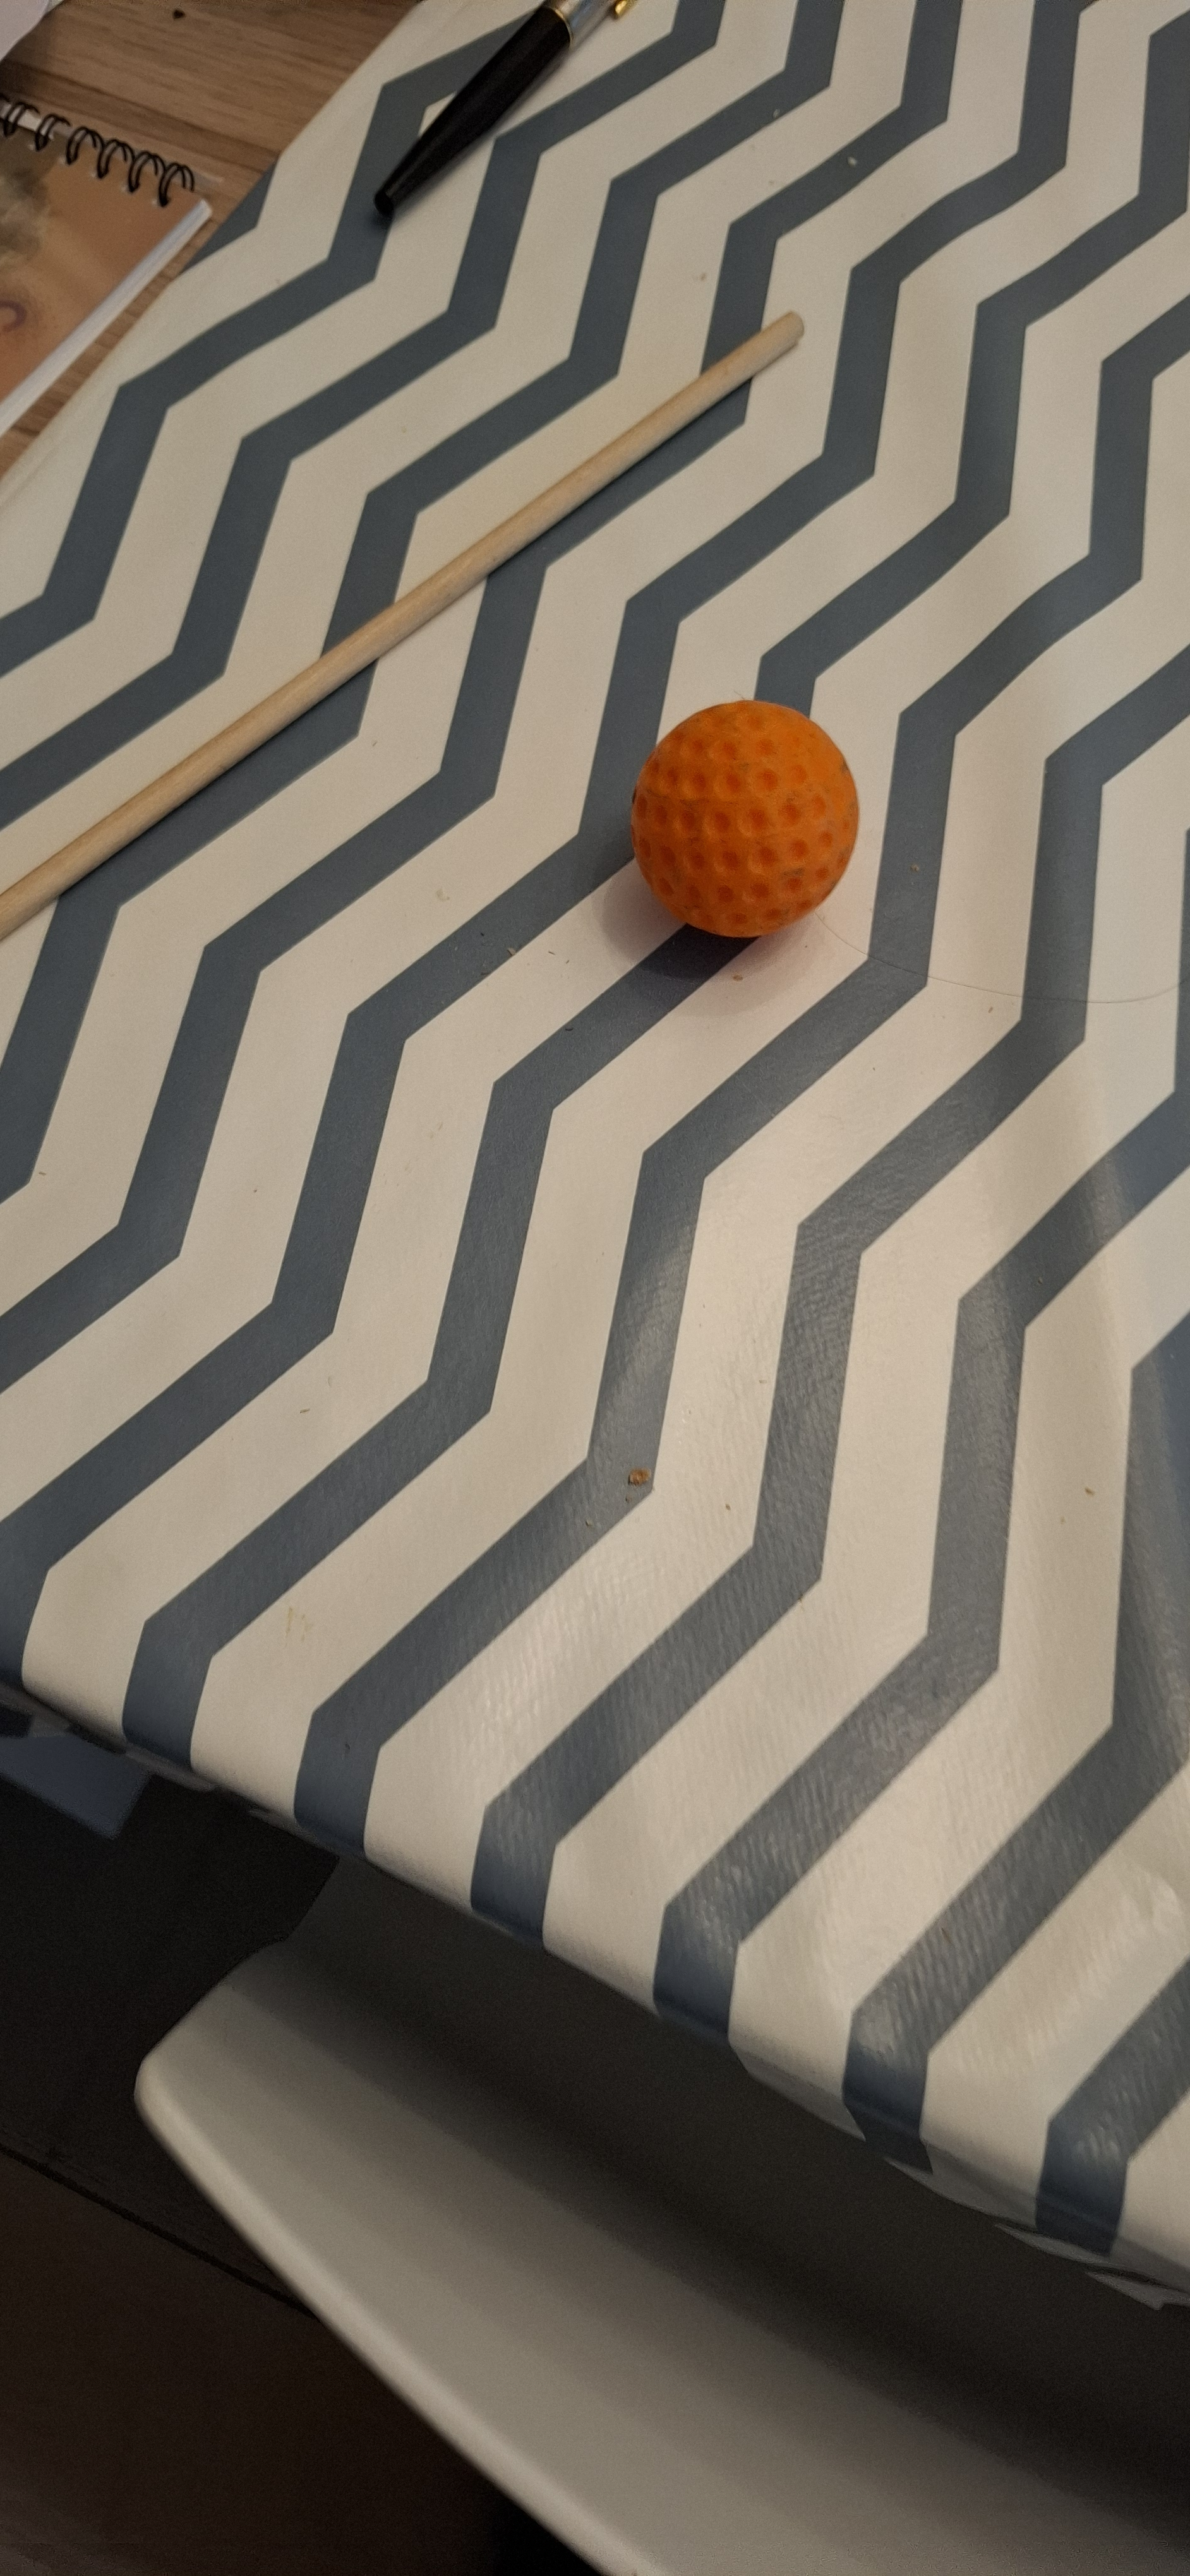ball: (322, 715, 434, 1219)
